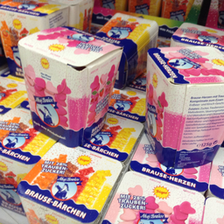candy: (18, 22, 124, 147), (143, 45, 224, 170), (11, 141, 123, 223), (99, 163, 208, 224)
